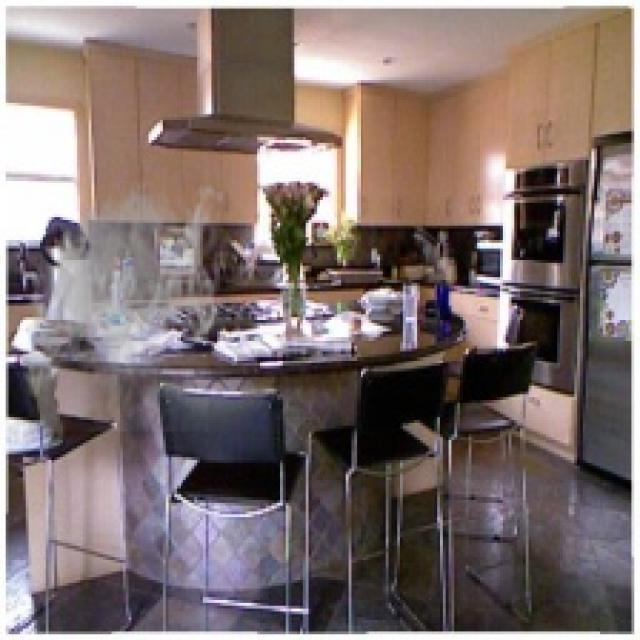Smoke: (17, 177, 223, 432)
